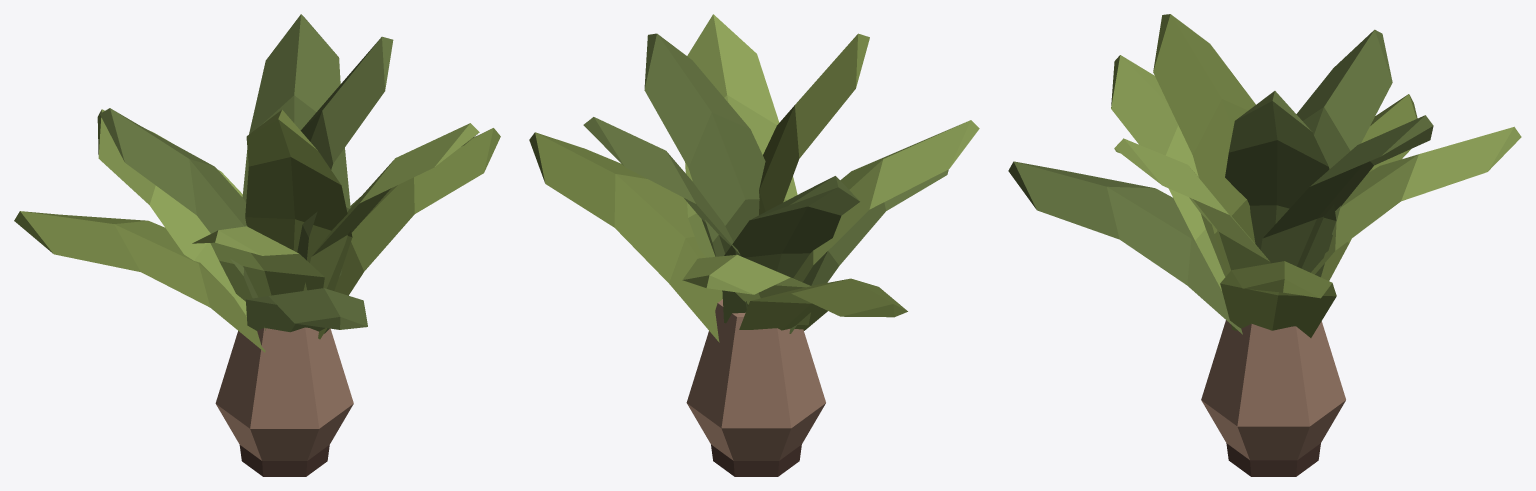
Rendered from Tree_Type7_01.glb.
3 renders of one model, left to right at view 1: azimuth 30°, elevation 25°; view 2: azimuth 150°, elevation 25°; view 3: azimuth 270°, elevation 25°, orthographic. The views are drawn at different scales.
Visible parts, largest first — view 1: Tree Type7 01 Model; view 2: Tree Type7 01 Model; view 3: Tree Type7 01 Model.
Boxes of the visible parts, x1,y1,x2,y2 form: Tree Type7 01 Model: (14, 14, 500, 476); Tree Type7 01 Model: (529, 14, 979, 476); Tree Type7 01 Model: (1008, 14, 1521, 476).
Bounding box in the file's own units: 3.13 × 2.82 × 3.12.
1 material, 1 textured.
